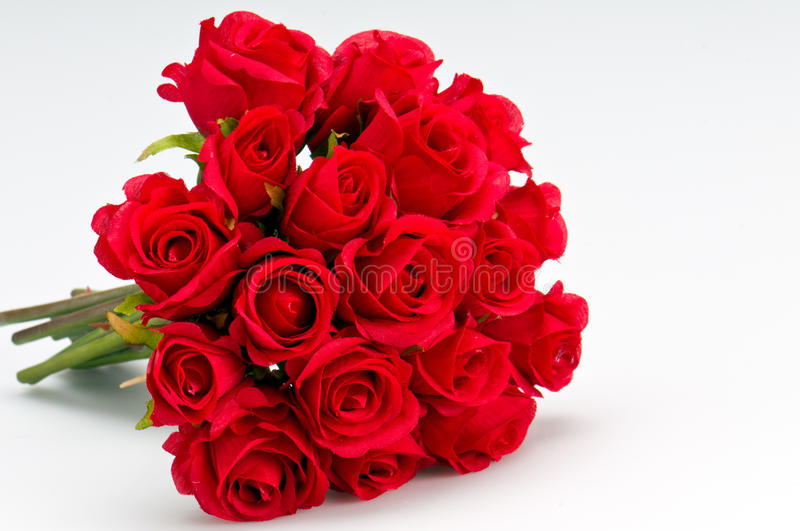RedRose: (157, 385, 322, 527), (86, 165, 245, 312), (152, 7, 325, 140), (340, 208, 475, 344), (228, 238, 346, 369), (379, 92, 495, 220), (299, 330, 419, 453), (308, 27, 456, 123), (294, 125, 400, 256), (141, 301, 255, 422), (437, 69, 537, 186), (420, 388, 537, 485), (203, 105, 304, 214), (409, 317, 516, 417), (504, 284, 590, 398), (446, 221, 541, 318), (479, 174, 568, 272), (325, 431, 431, 507)
